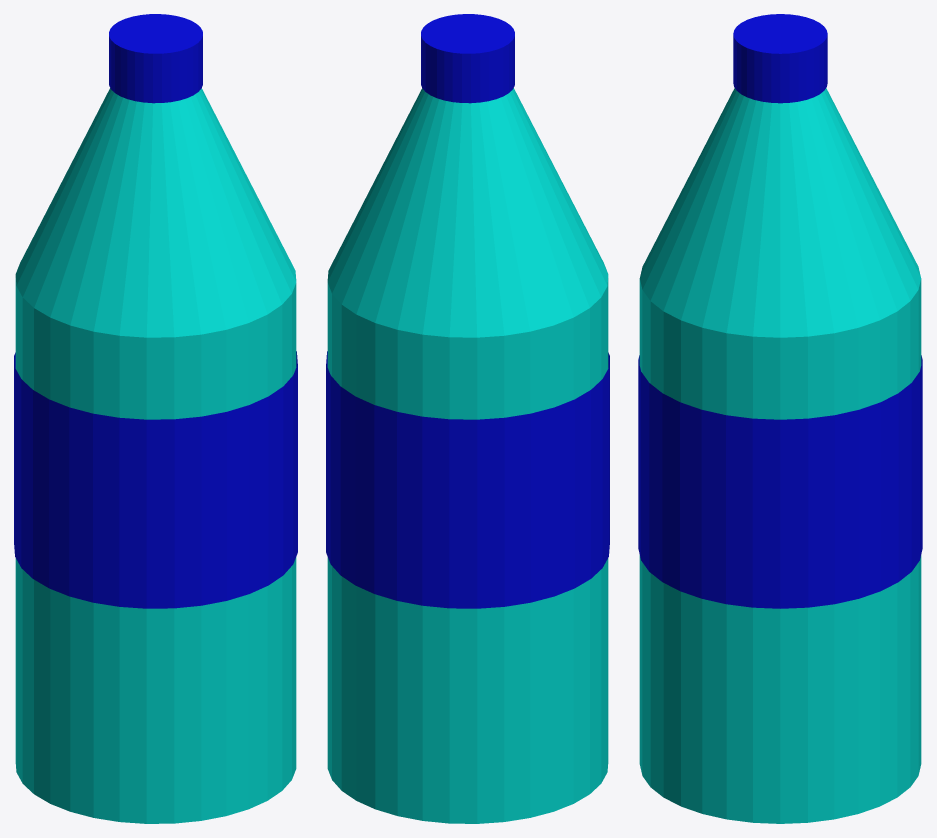
File: water.glb
3 renders of one model, left to right at view 1: azimuth 30°, elevation 25°; view 2: azimuth 150°, elevation 25°; view 3: azimuth 270°, elevation 25°, orthographic.
Visible parts, largest first — view 1: Cylinder, Cylinder.002, Cylinder.001; view 2: Cylinder, Cylinder.002, Cylinder.001; view 3: Cylinder, Cylinder.002, Cylinder.001.
Part boxes in pixels (<box>): Cylinder: <box>15,88,296,823</box>; Cylinder.002: <box>14,351,297,608</box>; Cylinder.001: <box>109,14,202,103</box>; Cylinder: <box>327,88,608,823</box>; Cylinder.002: <box>326,351,609,608</box>; Cylinder.001: <box>421,14,514,103</box>; Cylinder: <box>639,88,921,823</box>; Cylinder.002: <box>638,355,922,608</box>; Cylinder.001: <box>733,14,827,103</box>.
Size of the model in its own units: 0.9696 by 2.75 by 0.9696.
